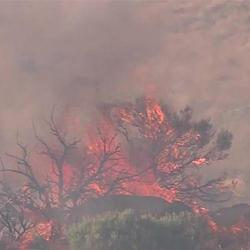fire: (129, 167, 167, 198), (25, 216, 57, 238)
